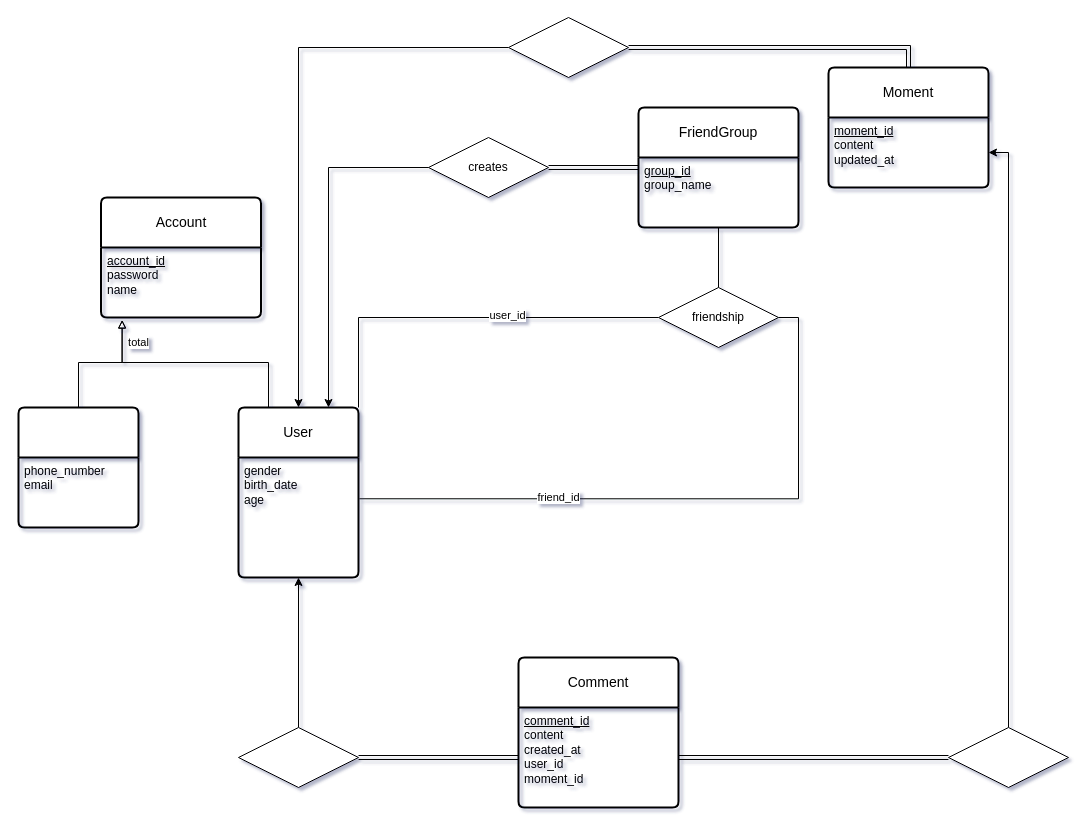
Image size: 1092x832. Some labels were removed from this diagram. The shapes that lost their labels are listed below. From the top down, each one's box as (x1, y1, x2, y2) in pixels, then its label:
(508, 16, 628, 78): posts
(17, 406, 139, 528): Admin
(238, 726, 358, 788): makes
(948, 726, 1068, 788): has
